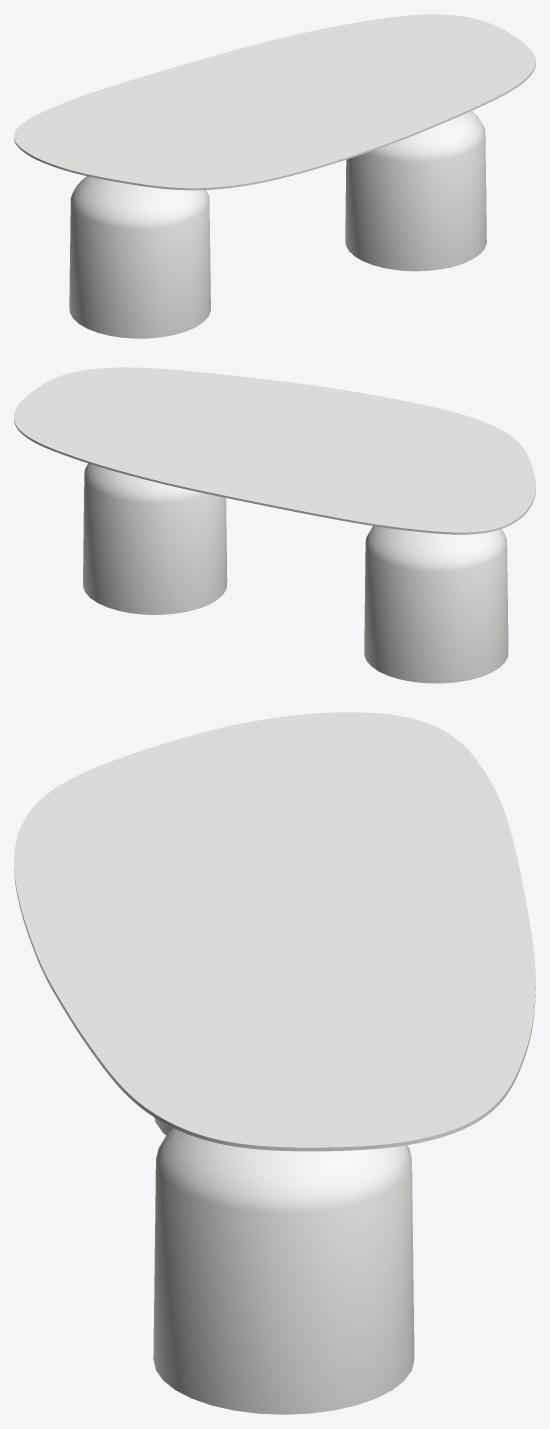
File: purewhite_leaf2_facet_tornado.glb
3 renders of one model, top to bottom at view 1: azimuth 30°, elevation 25°; view 2: azimuth 150°, elevation 25°; view 3: azimuth 270°, elevation 25°, orthographic. The views are drawn at different scales.
Parts seen in each view (by area): view 1: facet_leaf2, tornado; view 2: facet_leaf2, tornado; view 3: facet_leaf2, tornado.
Boxes of the visible parts, <box> form: facet_leaf2: <box>14,14,535,190</box>; tornado: <box>69,111,486,338</box>; facet_leaf2: <box>14,367,535,534</box>; tornado: <box>83,463,508,683</box>; facet_leaf2: <box>14,712,535,1151</box>; tornado: <box>153,1117,414,1414</box>.
Bounding box in the file's own units: 7.5 × 2.5 × 3.8.
Materials: 1 (1 with a texture image).
